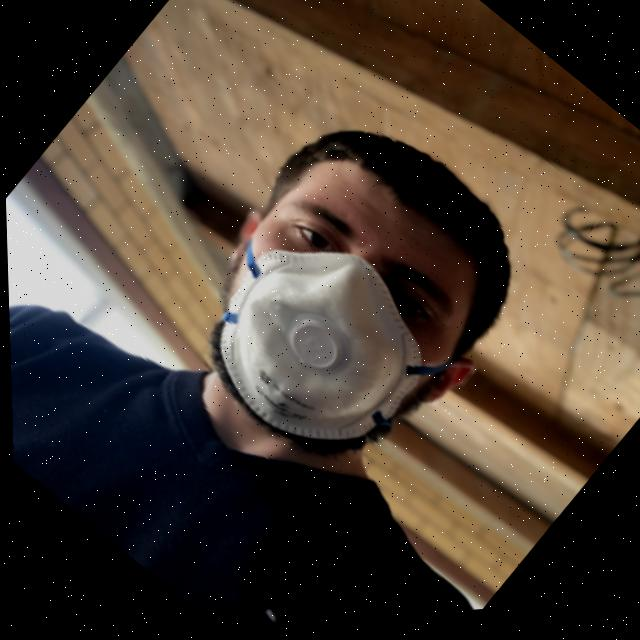Mask: (152, 188, 474, 509)
